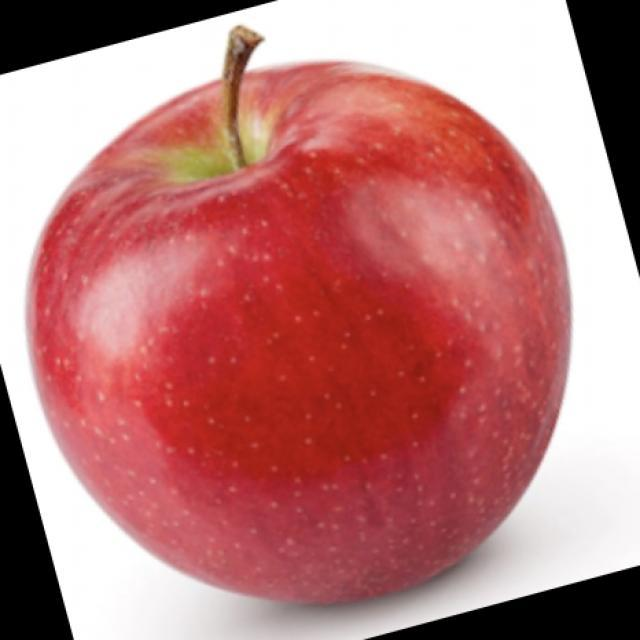Fresh Apple: (43, 51, 563, 640)
